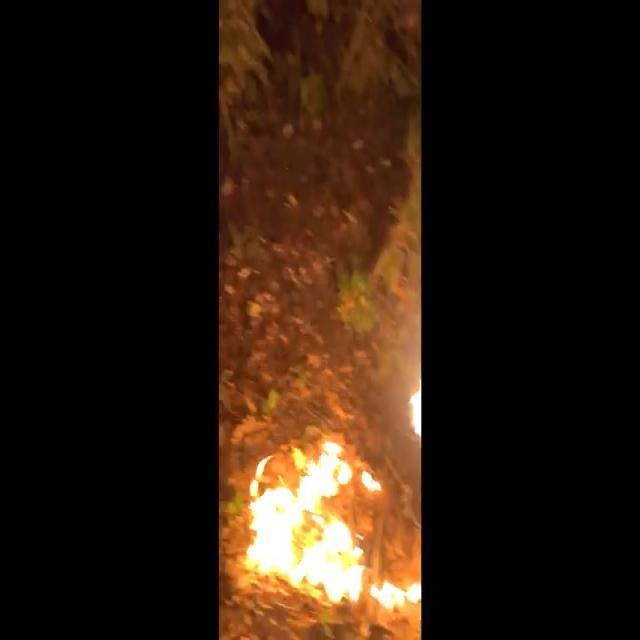Fire: (242, 386, 421, 618)
